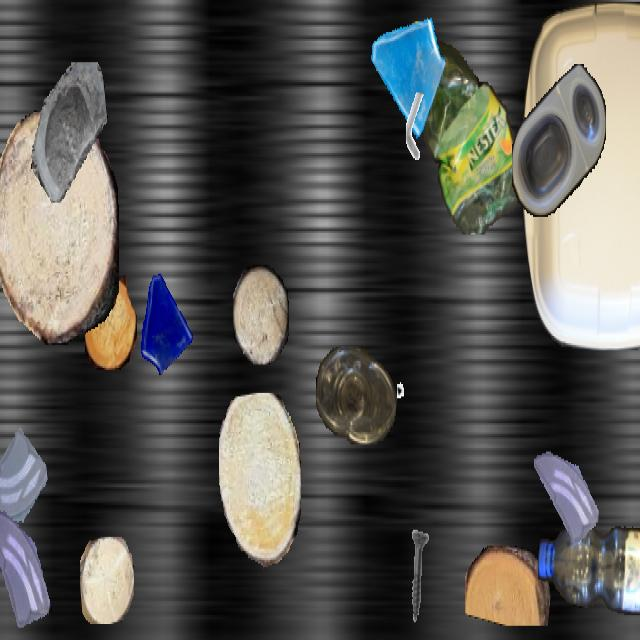glass: (29, 62, 107, 201), (367, 2, 445, 140), (534, 441, 598, 555), (0, 507, 54, 638), (135, 269, 195, 375), (0, 423, 47, 551)
metal: (390, 528, 446, 628), (396, 92, 436, 164), (397, 366, 435, 434), (629, 73, 640, 179)
plastic: (522, 2, 640, 350), (392, 21, 522, 235), (512, 64, 606, 217), (538, 519, 640, 615), (316, 347, 396, 442)
wood: (0, 109, 119, 343), (219, 393, 301, 567), (465, 546, 551, 624), (233, 265, 289, 364), (84, 276, 136, 368), (80, 537, 134, 622)
